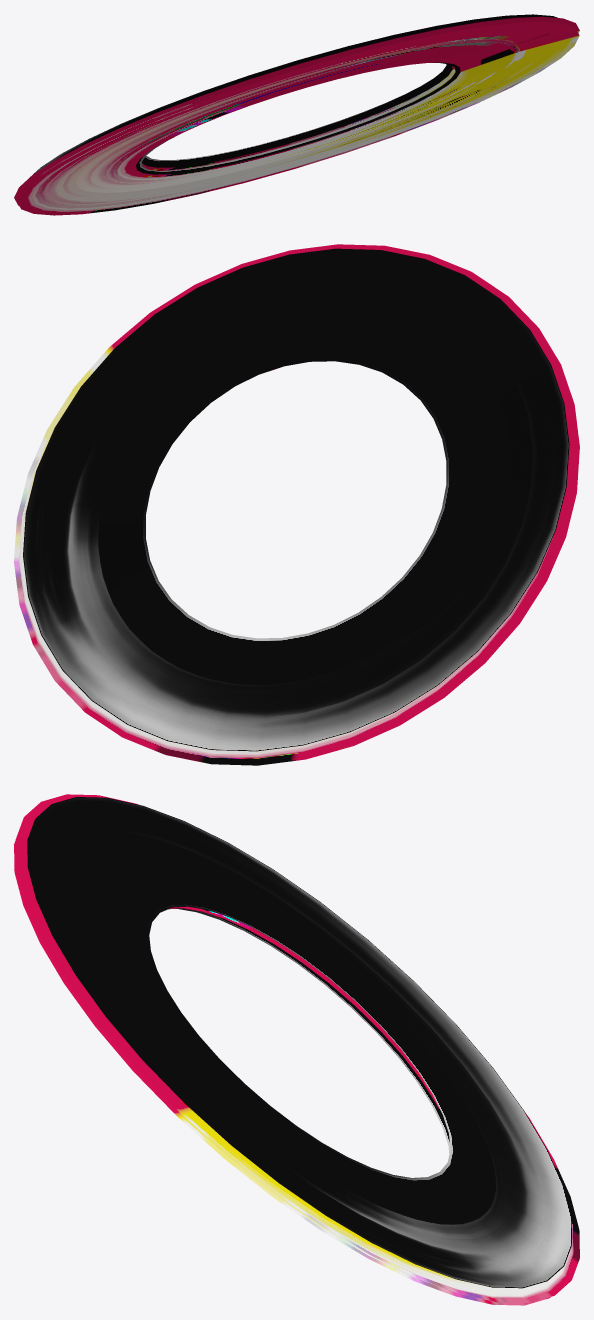
Rendered from fx_cookie0002_skill02.fbx.
3 renders of one model, top to bottom at view 1: azimuth 30°, elevation 25°; view 2: azimuth 150°, elevation 25°; view 3: azimuth 270°, elevation 25°, orthographic. The views are drawn at different scales.
Visible parts, largest first — view 1: att02_back (4), att02_back (5); view 2: att02_back (5), att02_back (4); view 3: att02_back (5), att02_back (4).
Boxes of the visible parts, <box> form: att02_back (4): <box>14,16,579,215</box>; att02_back (5): <box>30,14,557,176</box>; att02_back (5): <box>23,248,569,751</box>; att02_back (4): <box>14,244,579,765</box>; att02_back (5): <box>27,797,571,1288</box>; att02_back (4): <box>14,794,579,1305</box>.
Bounding box in the file's own units: 510 × 317 × 402.
